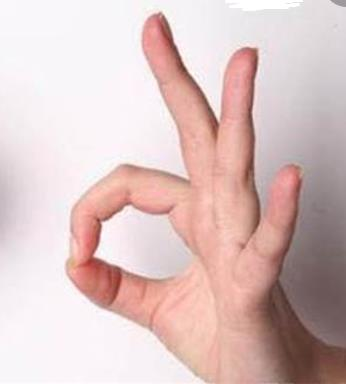left: (63, 9, 305, 379)
